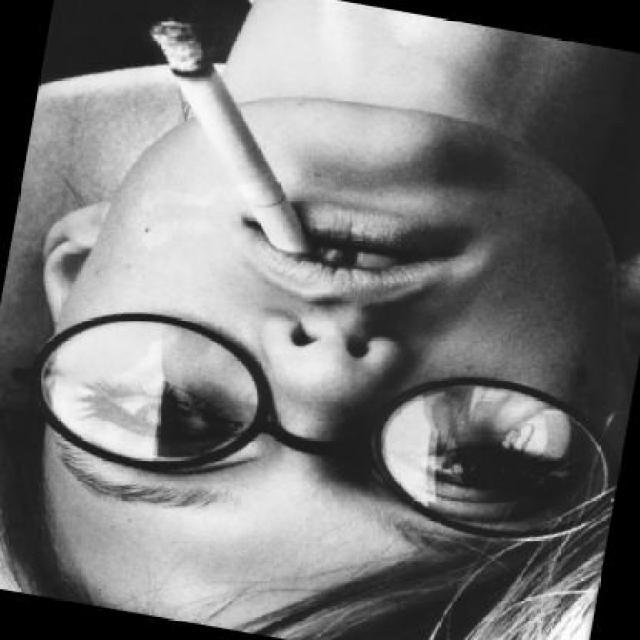cigarette: (98, 6, 360, 260)
